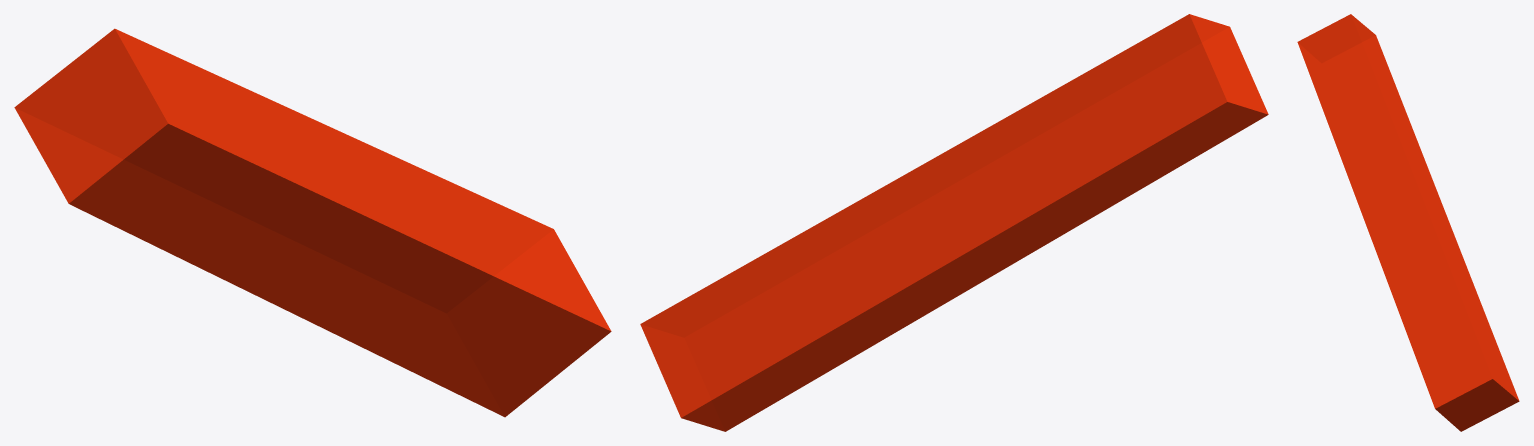
File: Event_421364160_EBrechit_27.fbx
3 views of the same model, side by side, from view 1: azimuth 30°, elevation 25°; view 2: azimuth 150°, elevation 25°; view 3: azimuth 270°, elevation 25° (orthographic). The views are drawn at different scales.
Parts seen in each view (by area): view 1: Model; view 2: Model; view 3: Model.
Part boxes in pixels (box(x1,y1,x2,y2)): Model: box(14, 28, 611, 417); Model: box(640, 14, 1268, 431); Model: box(1297, 14, 1519, 431).
Bounding box in the file's own units: 0.3392 × 0.2923 × 0.1989.
